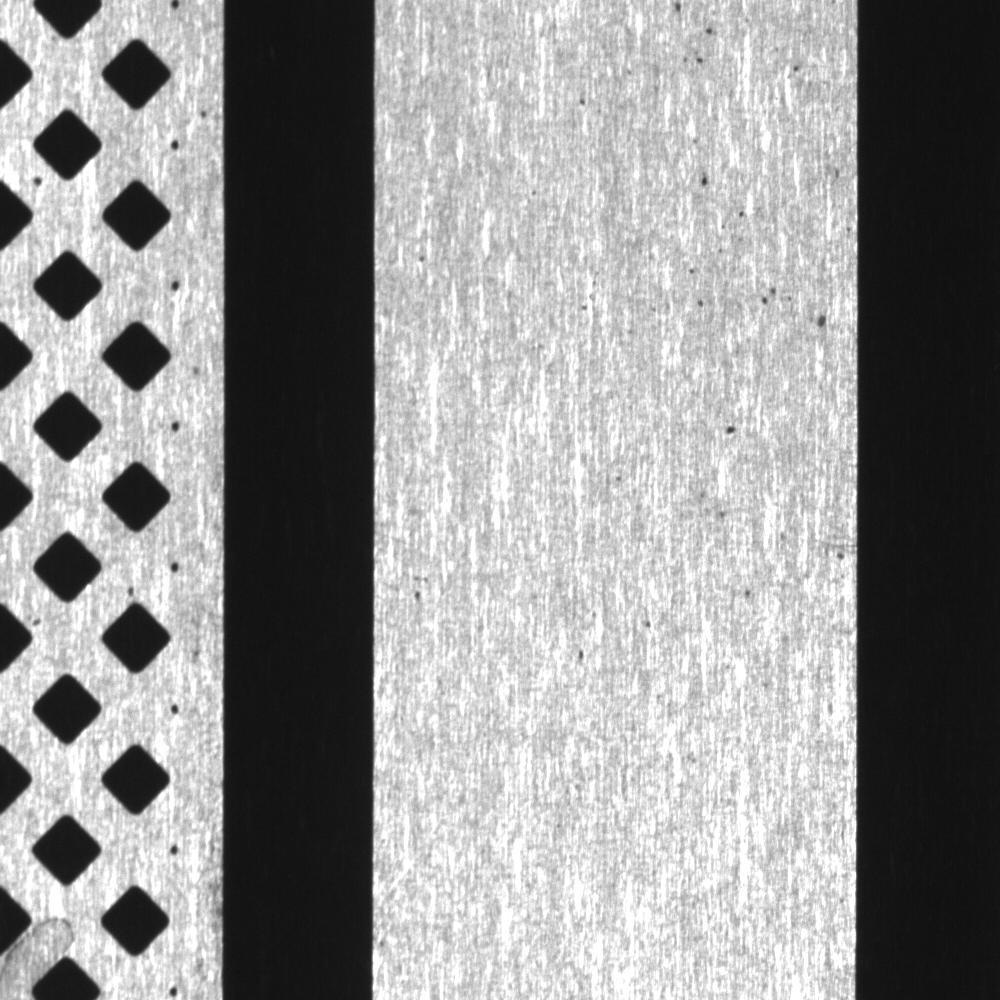Etching: (629, 152, 854, 344), (706, 405, 851, 610), (620, 1, 816, 86), (394, 558, 447, 614), (574, 262, 604, 326), (568, 84, 614, 121), (566, 626, 598, 679), (636, 609, 664, 635)
Pinhole: (408, 244, 446, 268)
